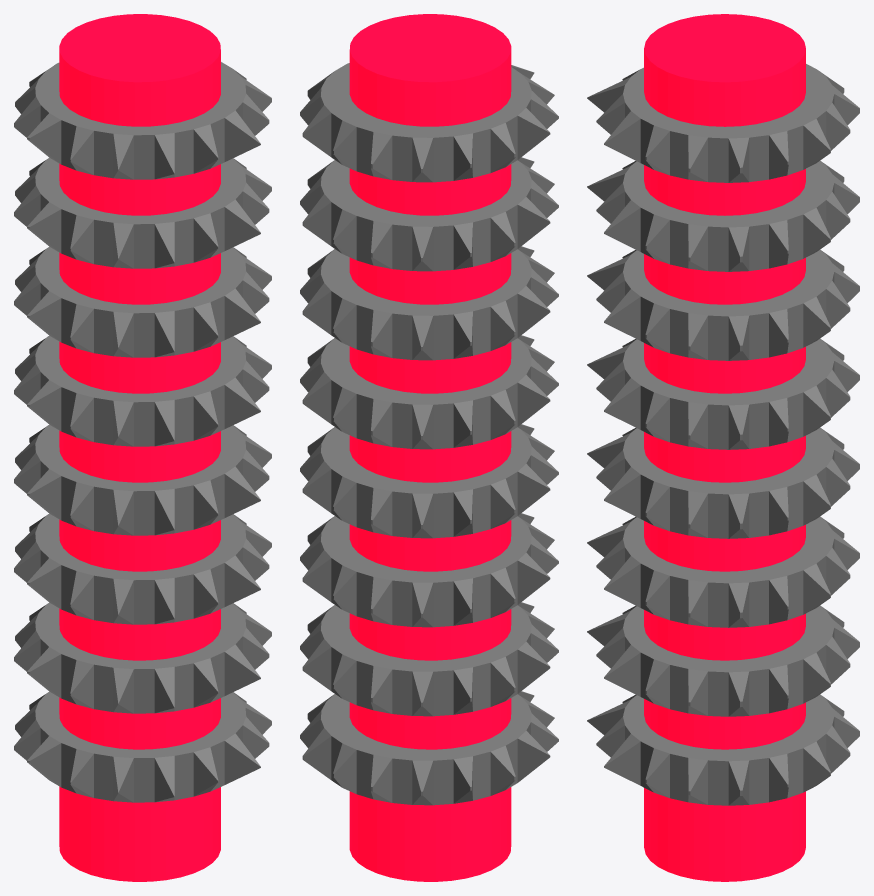
The model's file is enemy_3.gltf.
3 views of the same model, side by side, from view 1: azimuth 30°, elevation 25°; view 2: azimuth 150°, elevation 25°; view 3: azimuth 270°, elevation 25° (orthographic).
Parts seen in each view (by area): view 1: Cylinder; view 2: Cylinder; view 3: Cylinder.
Part boxes in pixels (x1,y1,x2,y2): Cylinder: (14,14,271,881); Cylinder: (300,14,558,881); Cylinder: (587,14,859,881).
Size of the model in its own units: 0.6014 by 1.99 by 0.6164.
